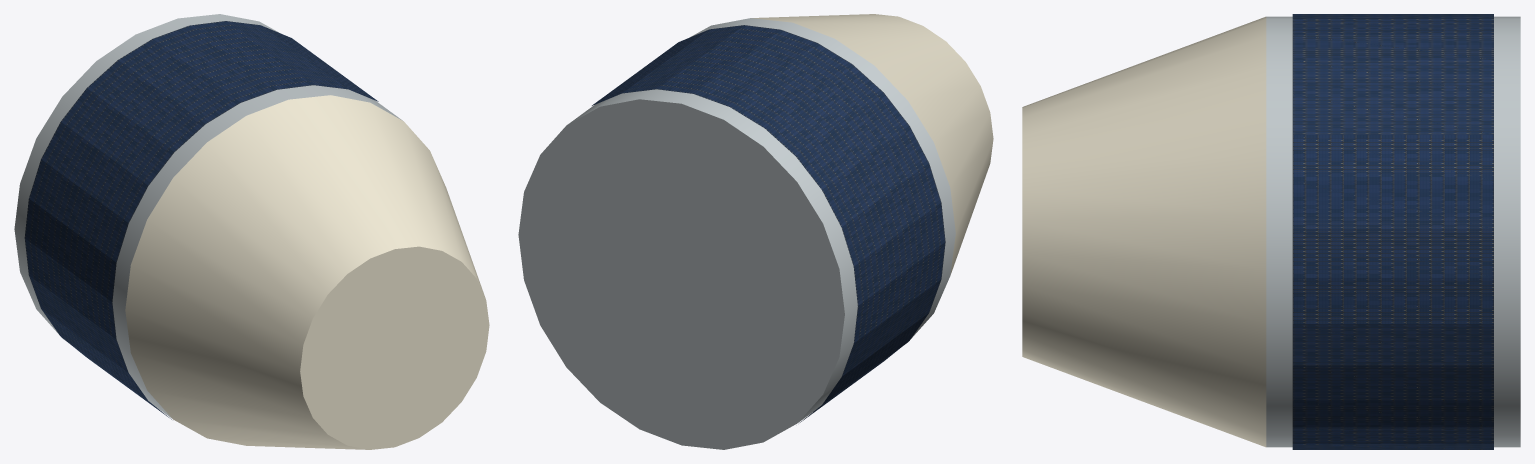
File: dragon-2.glb
The picture shows the model from 3 angles, left to right: view 1: azimuth 30°, elevation 25°; view 2: azimuth 150°, elevation 25°; view 3: azimuth 270°, elevation 25°; orthographic projection. The views are drawn at different scales.
Parts seen in each view (by area): view 1: Return capsule, Trunk cells, Trunk; view 2: Trunk, Trunk cells, Return capsule; view 3: Trunk cells, Return capsule, Trunk.
Part boxes in pixels (left/top/right/bottom): Return capsule: left=125, top=95, right=489, bottom=449; Trunk cells: left=24, top=21, right=378, bottom=419; Trunk: left=14, top=14, right=402, bottom=418; Trunk: left=518, top=18, right=955, bottom=449; Trunk cells: left=592, top=25, right=945, bottom=422; Return capsule: left=751, top=14, right=993, bottom=275; Trunk cells: left=1292, top=14, right=1493, bottom=449; Return capsule: left=1022, top=16, right=1266, bottom=447; Trunk: left=1266, top=16, right=1520, bottom=447.
Size of the model in its own units: 4.03 by 4.03 by 4.61.
Materials: 3 (1 with a texture image).
